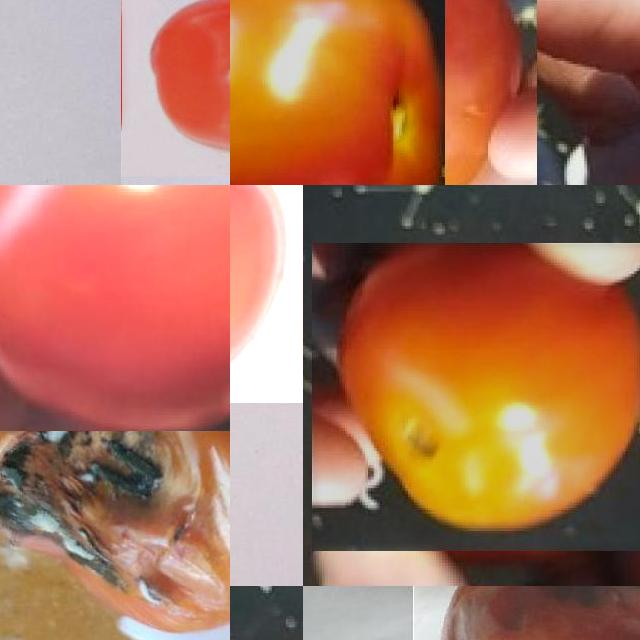Fresh Tomato: (0, 185, 230, 431), (230, 0, 445, 185), (121, 0, 230, 177), (230, 185, 303, 403)
Rotten Tomato: (312, 243, 640, 551), (0, 431, 230, 640), (445, 0, 537, 185)
